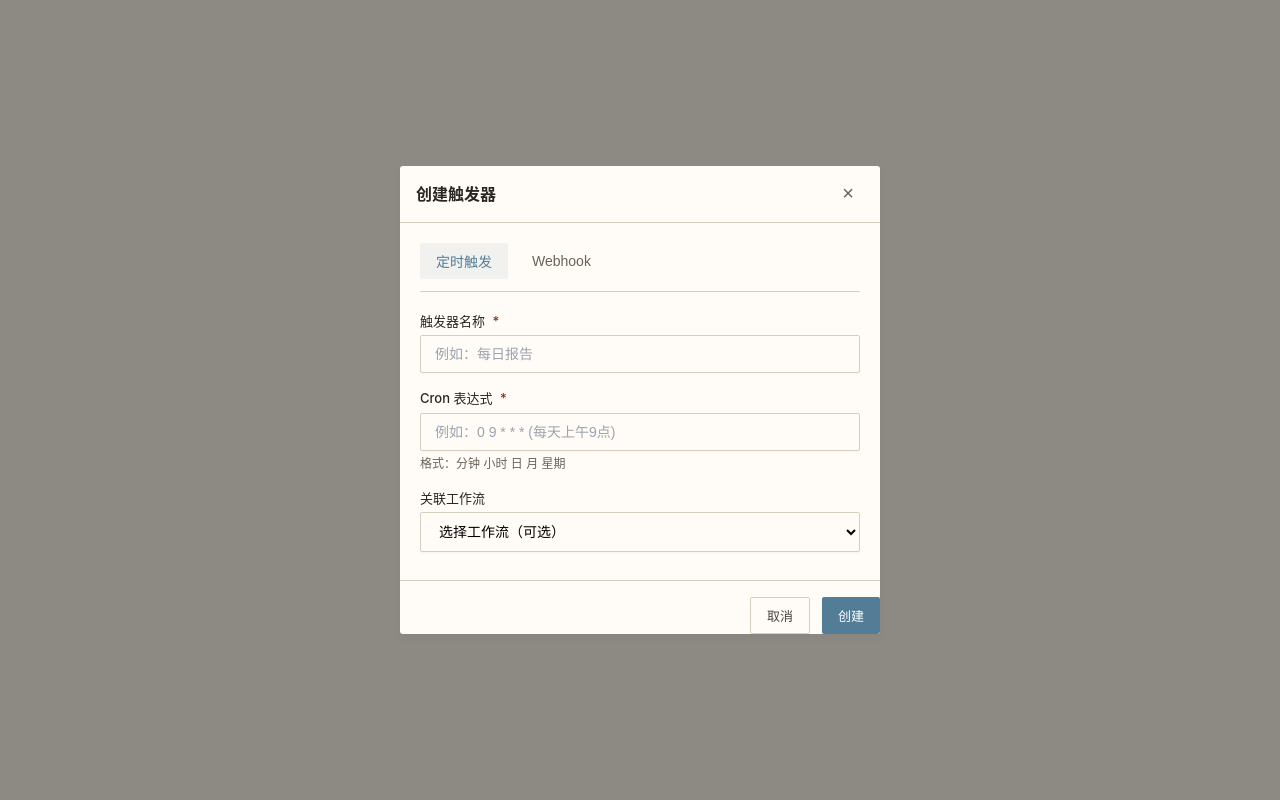
it: TriggerCreateDialog › shows validation error when schedule name is empty
Click the button with test id "trigger-create-submit" at point(851, 616), box [822,597,880,634]
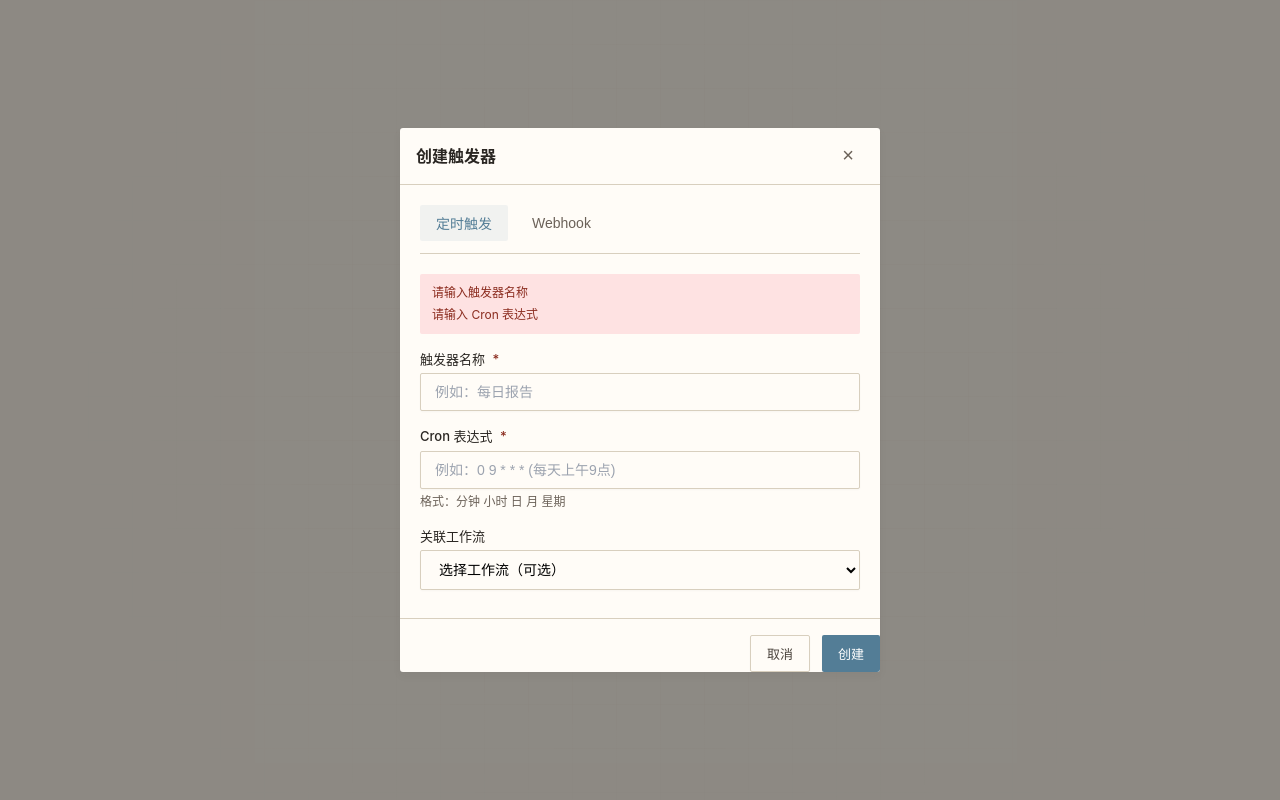
Expected: the text "请输入触发器名称" is shown, [432,285,528,300]
